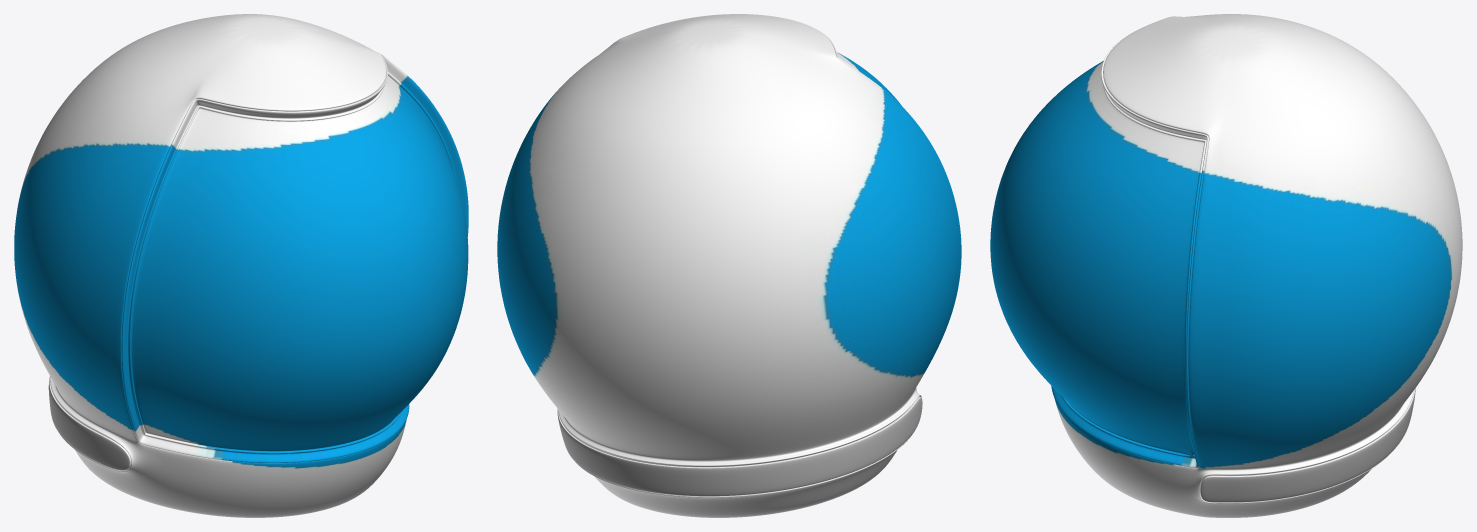
File: spaceman.obj
The picture shows the model from 3 angles, left to right: view 1: azimuth 30°, elevation 25°; view 2: azimuth 150°, elevation 25°; view 3: azimuth 270°, elevation 25°; orthographic projection.
Visible parts, largest first — view 1: Sphere; view 2: Sphere; view 3: Sphere.
Boxes of the visible parts, x1,y1,x2,y2 form: Sphere: [14, 14, 468, 517]; Sphere: [497, 14, 961, 517]; Sphere: [990, 14, 1462, 517].
Size of the model in its own units: 0.3231 by 0.3373 by 0.3304.
